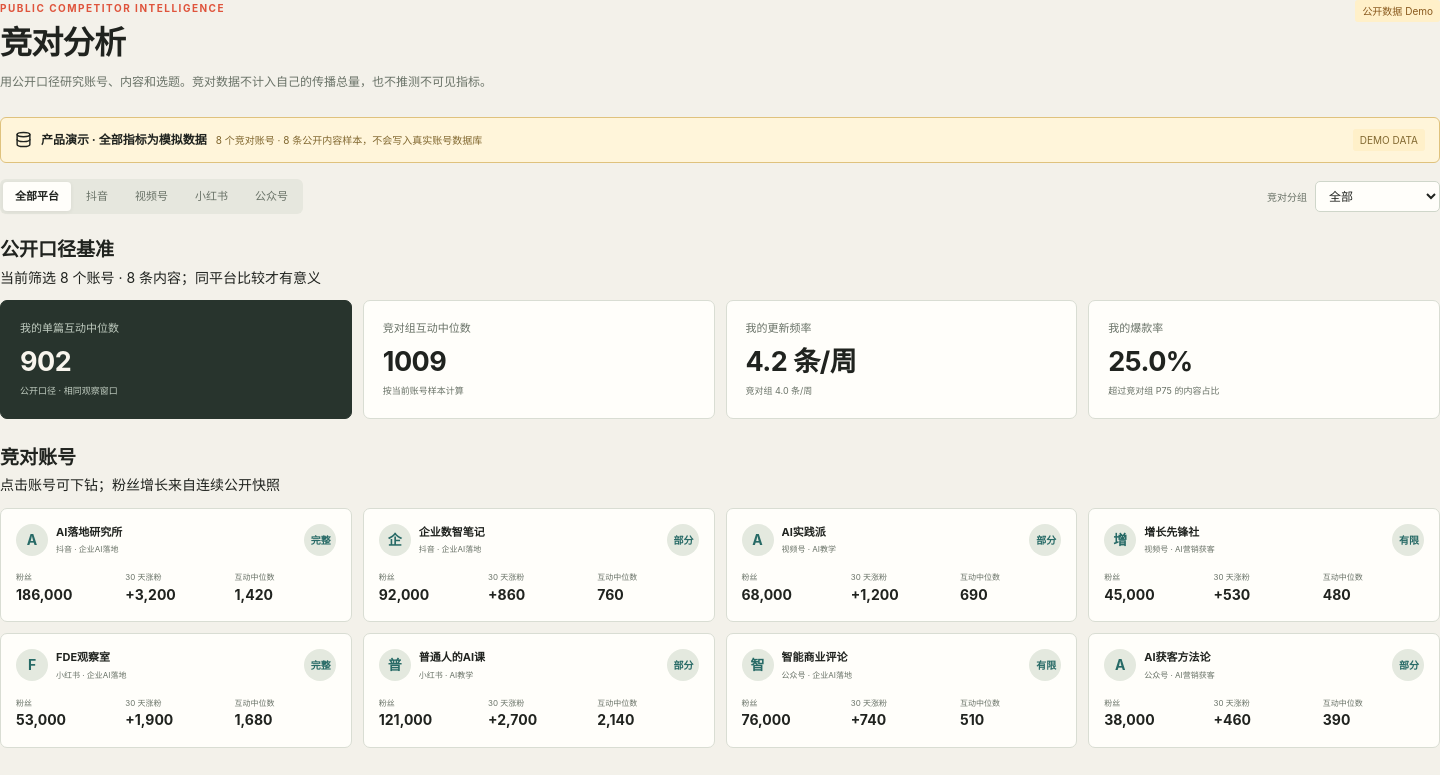
Test: Competitors demo › filters public accounts and inspects content without inventing metrics
This screenshot has width=1440, height=775.
Click the tab "小红书": x=212, y=197 x1=183 y1=182 x2=240 y2=211
(page scrolled)
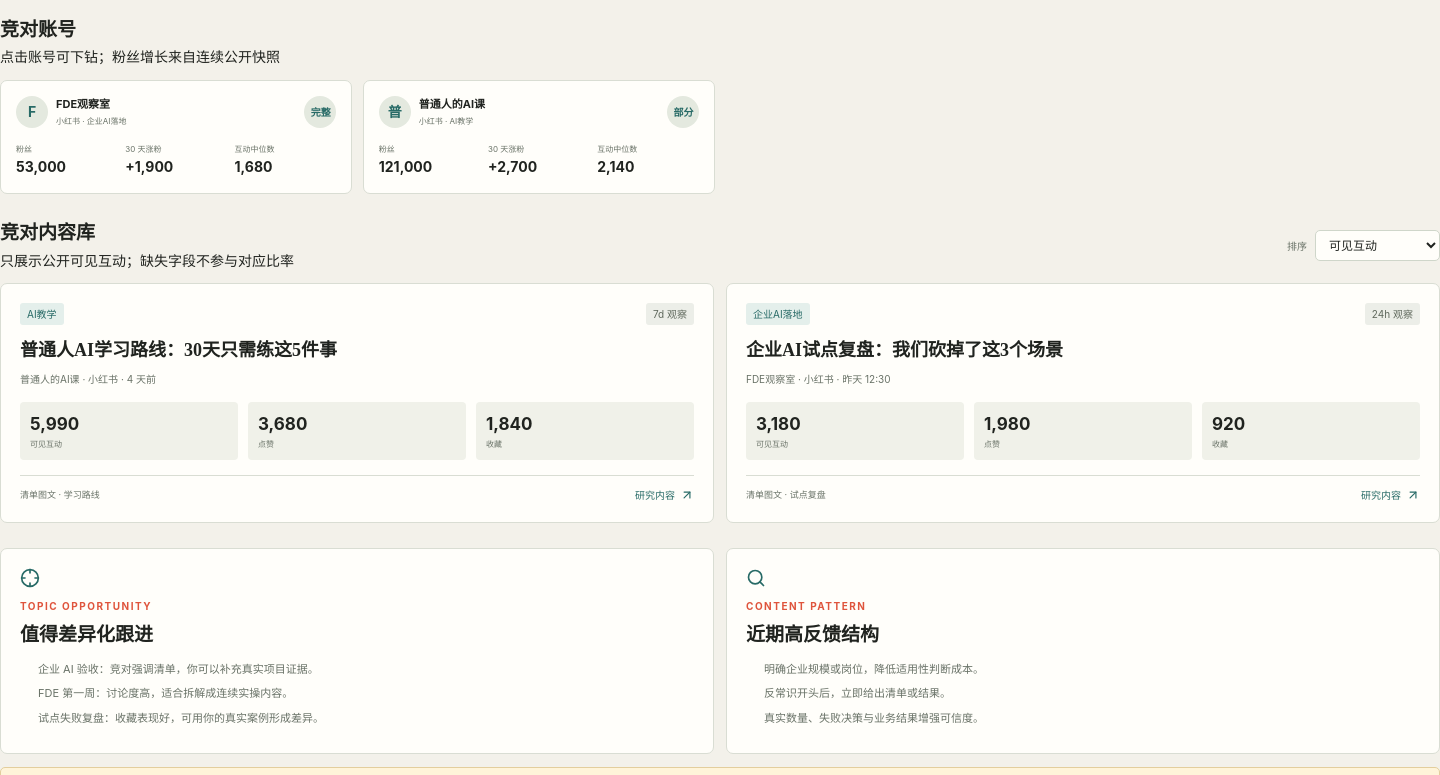
Expected: the text "FDE观察室" is shown, x1=56 y1=97 x2=110 y2=111
Expected: the button "AI落地研究所" is gone
Click the button with aria-label "研究 企业AI试点复盘：我们砍掉了这3个场景": x=1390, y=495 x1=1361 y1=487 x2=1420 y2=503
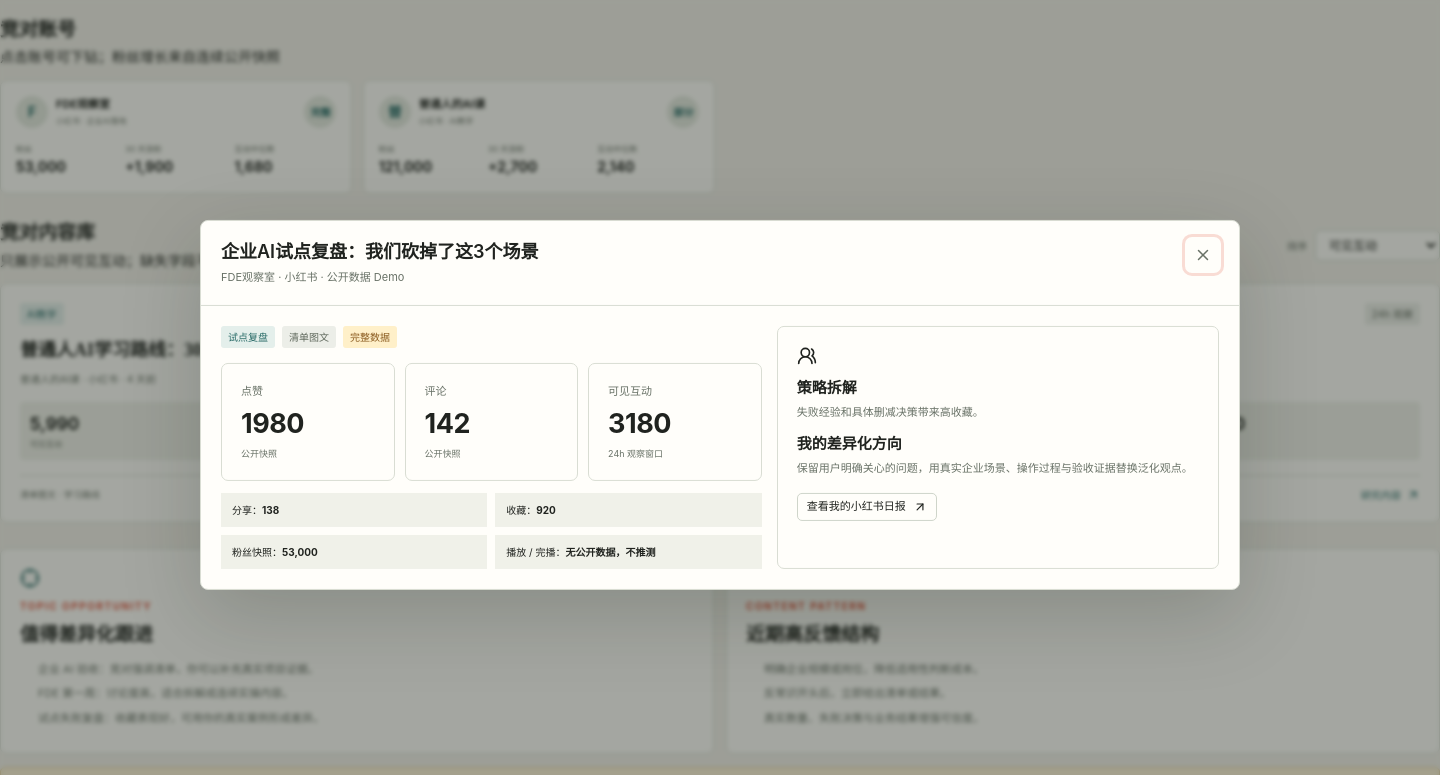
Expected: the dialog is shown, x1=200 y1=220 x2=1240 y2=590
Expected: the text "无公开数据，不推测" is shown, x1=566 y1=546 x2=656 y2=558
Expected: the heading "策略拆解" is shown, x1=797 y1=378 x2=857 y2=397
